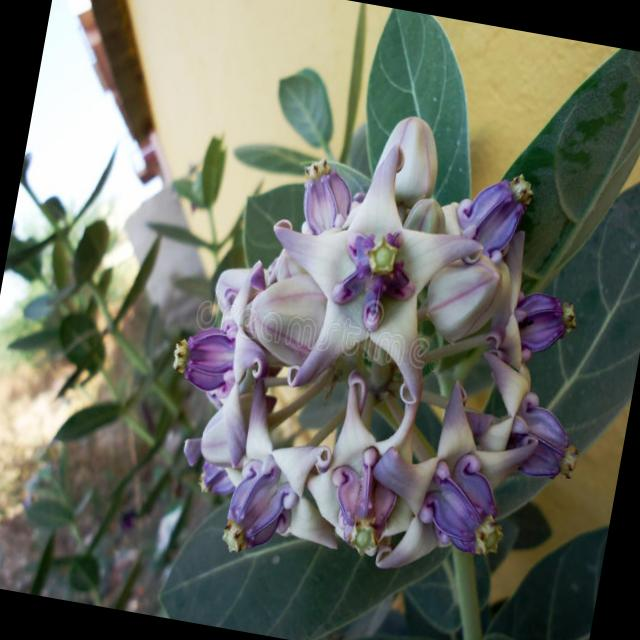Poisonous-Calatropis: (138, 80, 628, 614)
